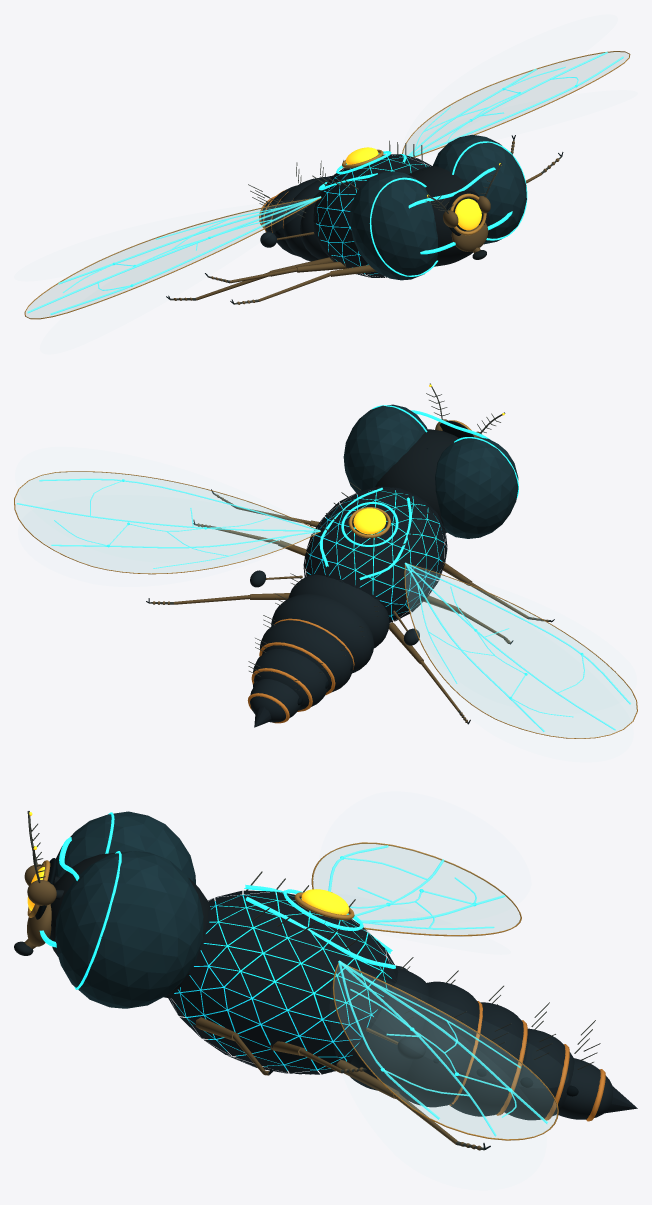
The model's file is mirror-gap-v2.0.0.glb.
3 renders of one model, top to bottom at view 1: azimuth 30°, elevation 25°; view 2: azimuth 150°, elevation 25°; view 3: azimuth 270°, elevation 25°, orthographic. The views are drawn at different scales.
Visible parts, largest first — view 1: Separate_head_Left_compound_eye_batch, Thin_wing_membrane (×2), Faceted_obsidian_thorax, Horizontal_segmented_abdomen_Abdominal_segment_1_batch, Left_single_membrane_wing_Cyan_neural_wing_vein_1_batch, Head_capsule, Right_single_membrane_wing_Cyan_neural_wing_vein_1_batch, Costal_wing_gold_edge (×2), Separate_head_Cyan_compound_eye_rim_batch, Thorax_inner_cyan_fissures, Facial_amber_core, Face_and_clypeus (+1 smaller); view 2: Thin_wing_membrane (×2), Horizontal_segmented_abdomen_Abdominal_segment_1_batch, Separate_head_Left_compound_eye_batch, Faceted_obsidian_thorax, Head_capsule, Right_single_membrane_wing_Cyan_neural_wing_vein_1_batch, Left_single_membrane_wing_Cyan_neural_wing_vein_1_batch, Thorax_inner_cyan_fissures, Costal_wing_gold_edge (×2), Horizontal_segmented_abdomen_Amber_tergite_seam_1_batch, Thorax_pitch_and_bank_Dorsal_core_cyan_fissure_batch, Dorsal_amber_core (+1 smaller); view 3: Thin_wing_membrane (×2), Faceted_obsidian_thorax, Separate_head_Left_compound_eye_batch, Horizontal_segmented_abdomen_Abdominal_segment_1_batch, Thorax_inner_cyan_fissures, Right_single_membrane_wing_Cyan_neural_wing_vein_1_batch, Costal_wing_gold_edge (×2), Left_single_membrane_wing_Cyan_neural_wing_vein_1_batch, Horizontal_segmented_abdomen_Amber_tergite_seam_1_batch, Thorax_pitch_and_bank_Dorsal_core_cyan_fissure_batch, Head_capsule, Separate_head_Cyan_compound_eye_rim_batch (+5 smaller).
Part boxes in pixels (<box>): Separate_head_Left_compound_eye_batch: <box>350,134,526,280</box>; Thin_wing_membrane (×2): <box>26,52,628,317</box>; Faceted_obsidian_thorax: <box>313,154,432,277</box>; Horizontal_segmented_abdomen_Abdominal_segment_1_batch: <box>260,175,336,261</box>; Left_single_membrane_wing_Cyan_neural_wing_vein_1_batch: <box>27,196,321,314</box>; Head_capsule: <box>408,166,490,266</box>; Right_single_membrane_wing_Cyan_neural_wing_vein_1_batch: <box>407,51,623,158</box>; Costal_wing_gold_edge (×2): <box>24,51,630,319</box>; Separate_head_Cyan_compound_eye_rim_batch: <box>369,141,527,276</box>; Thorax_inner_cyan_fissures: <box>316,156,428,274</box>; Facial_amber_core: <box>455,198,481,230</box>; Face_and_clypeus: <box>451,222,488,251</box>; Thin_wing_membrane (×2): <box>15,472,636,737</box>; Horizontal_segmented_abdomen_Abdominal_segment_1_batch: <box>250,574,389,722</box>; Separate_head_Left_compound_eye_batch: <box>343,404,518,538</box>; Faceted_obsidian_thorax: <box>303,486,447,622</box>; Head_capsule: <box>375,429,459,533</box>; Right_single_membrane_wing_Cyan_neural_wing_vein_1_batch: <box>17,478,320,568</box>; Left_single_membrane_wing_Cyan_neural_wing_vein_1_batch: <box>404,562,630,731</box>; Thorax_inner_cyan_fissures: <box>306,490,444,619</box>; Costal_wing_gold_edge (×2): <box>14,471,637,738</box>; Horizontal_segmented_abdomen_Amber_tergite_seam_1_batch: <box>247,618,354,723</box>; Thorax_pitch_and_bank_Dorsal_core_cyan_fissure_batch: <box>319,487,411,580</box>; Dorsal_amber_core: <box>353,508,386,534</box>; Thin_wing_membrane (×2): <box>313,844,556,1138</box>; Faceted_obsidian_thorax: <box>168,890,398,1074</box>; Separate_head_Left_compound_eye_batch: <box>55,811,203,1008</box>; Horizontal_segmented_abdomen_Abdominal_segment_1_batch: <box>347,968,613,1120</box>; Thorax_inner_cyan_fissures: <box>174,894,391,1070</box>; Right_single_membrane_wing_Cyan_neural_wing_vein_1_batch: <box>338,960,548,1136</box>; Costal_wing_gold_edge (×2): <box>311,842,558,1140</box>; Left_single_membrane_wing_Cyan_neural_wing_vein_1_batch: <box>328,845,505,929</box>; Horizontal_segmented_abdomen_Amber_tergite_seam_1_batch: <box>449,1001,605,1121</box>; Thorax_pitch_and_bank_Dorsal_core_cyan_fissure_batch: <box>244,884,395,968</box>; Head_capsule: <box>49,852,210,995</box>; Separate_head_Cyan_compound_eye_rim_batch: <box>39,812,121,989</box>.
Bounding box in the file's own units: 2.29 × 0.7308 × 1.38.
